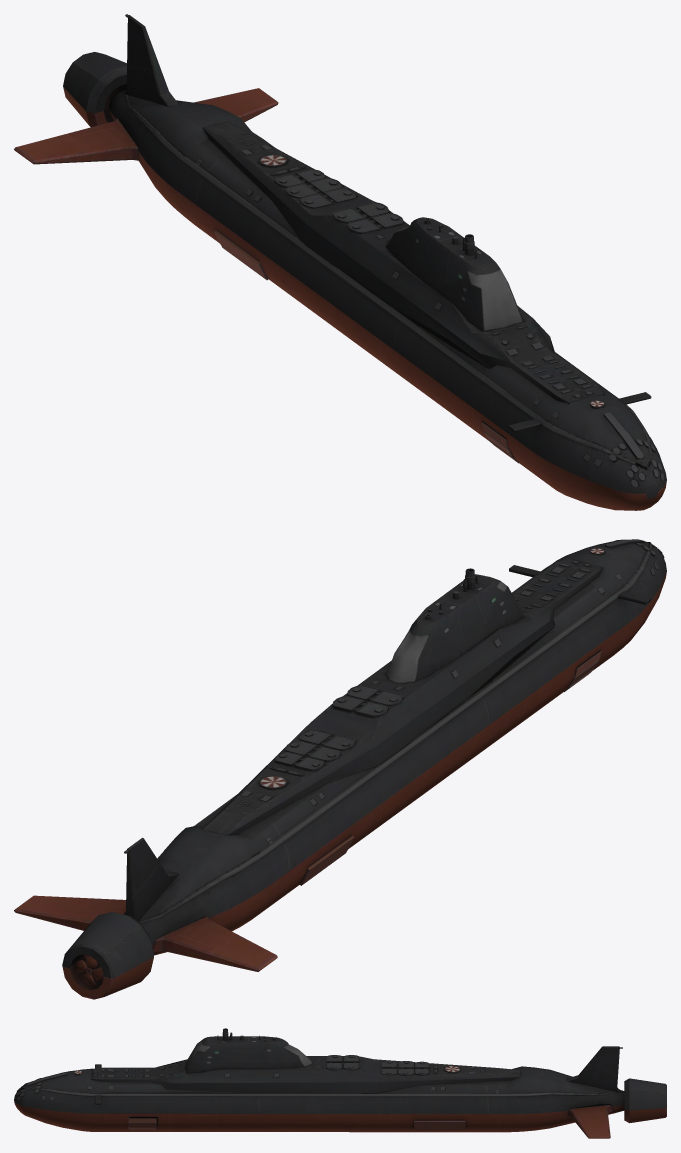
File: yasen.glb
3 renders of one model, top to bottom at view 1: azimuth 30°, elevation 25°; view 2: azimuth 150°, elevation 25°; view 3: azimuth 270°, elevation 25°, orthographic. The views are drawn at different scales.
Parts seen in each view (by area): view 1: Object_2; view 2: Object_2; view 3: Object_2.
Part boxes in pixels (bbox=[...]): Object_2: bbox=[14, 14, 666, 510]; Object_2: bbox=[14, 539, 666, 999]; Object_2: bbox=[14, 1028, 666, 1138].
Size of the model in its own units: 0.9169 by 0.6152 by 3.65.
Materials: 1 (1 with a texture image).
